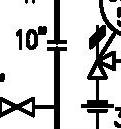psv: (86, 24, 121, 81)
valve: (1, 96, 34, 117)
